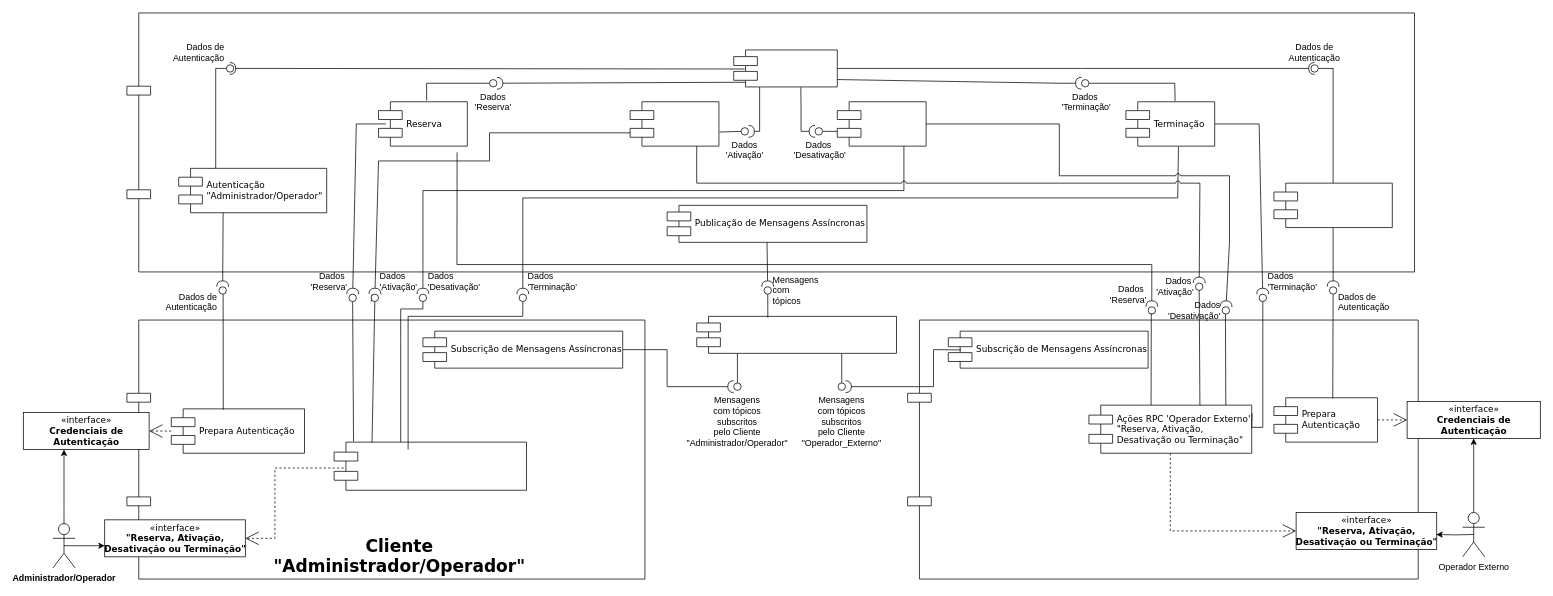
This 1553x596 diagram has some shape labels left out. The box of each missing label's shape, as (x1, y1, x2, y2) in pixels:
Ativação: (629, 101, 719, 146)
Autenticação "Operador Externo": (1273, 182, 1392, 228)
Ações RPC Administrador/Operador "Reserva, Ativação, Desativação ou Terminação": (333, 441, 527, 490)
Base de Dados: (733, 49, 837, 87)
Broker Pub-Sub: (696, 316, 897, 353)
Cliente "Operador_Externo": (907, 319, 1418, 579)
Desativação: (837, 101, 926, 146)
Servidor: (126, 12, 1415, 272)
